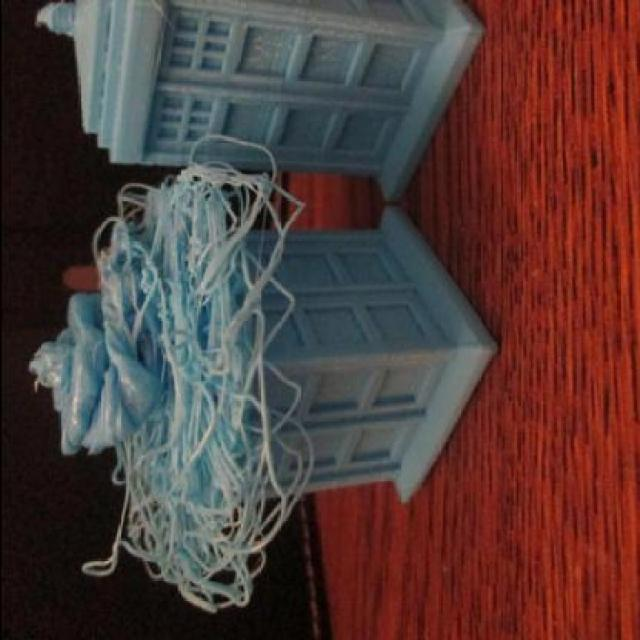spaghetti: (22, 129, 322, 618)
